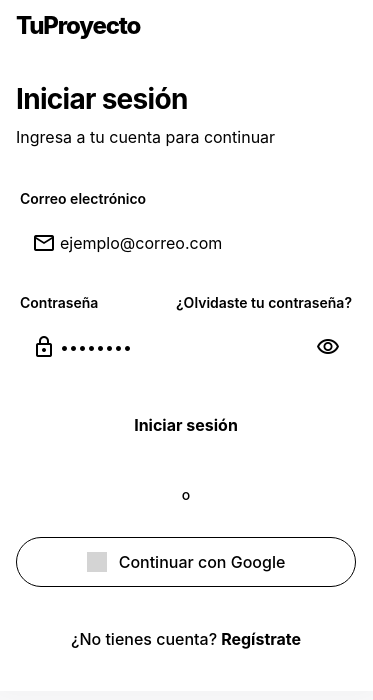
it: LoginForm › muestra un mensaje de error cuando el login falla
Type "test@test.com" into the field labelled "Correo electrónico".
click(186, 243); type("test@test.com")  # box [16,217,356,269]
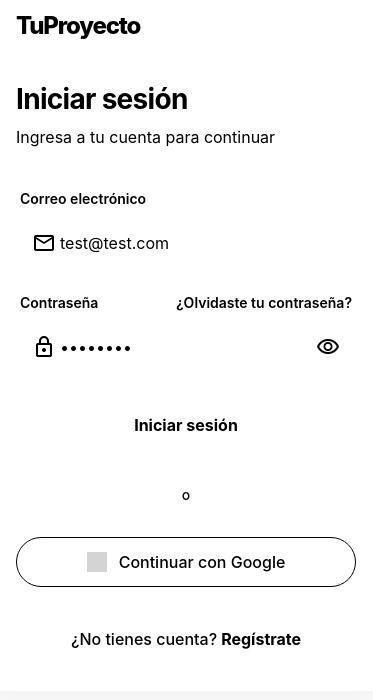
Type "wrong-password" into the password field labelled "Contraseña".
click(186, 347); type("wrong-password")  # box [16,321,356,373]
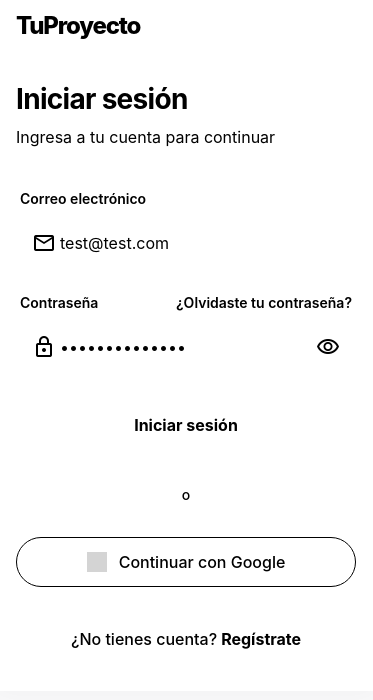
Click the button "Iniciar sesión".
click(186, 425)  # box [16,397,356,453]
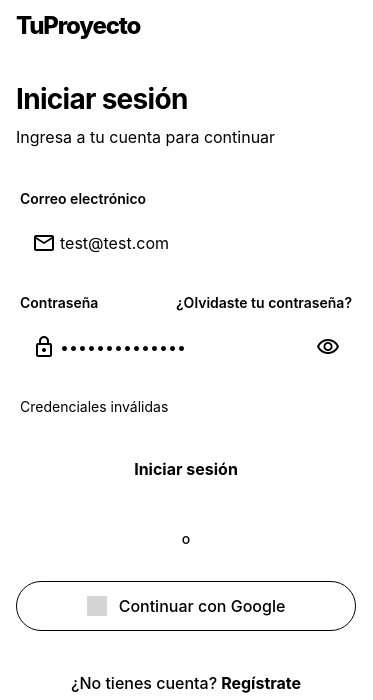
Expected: the text "Credenciales inválidas" is shown, [20,398,168,415]
